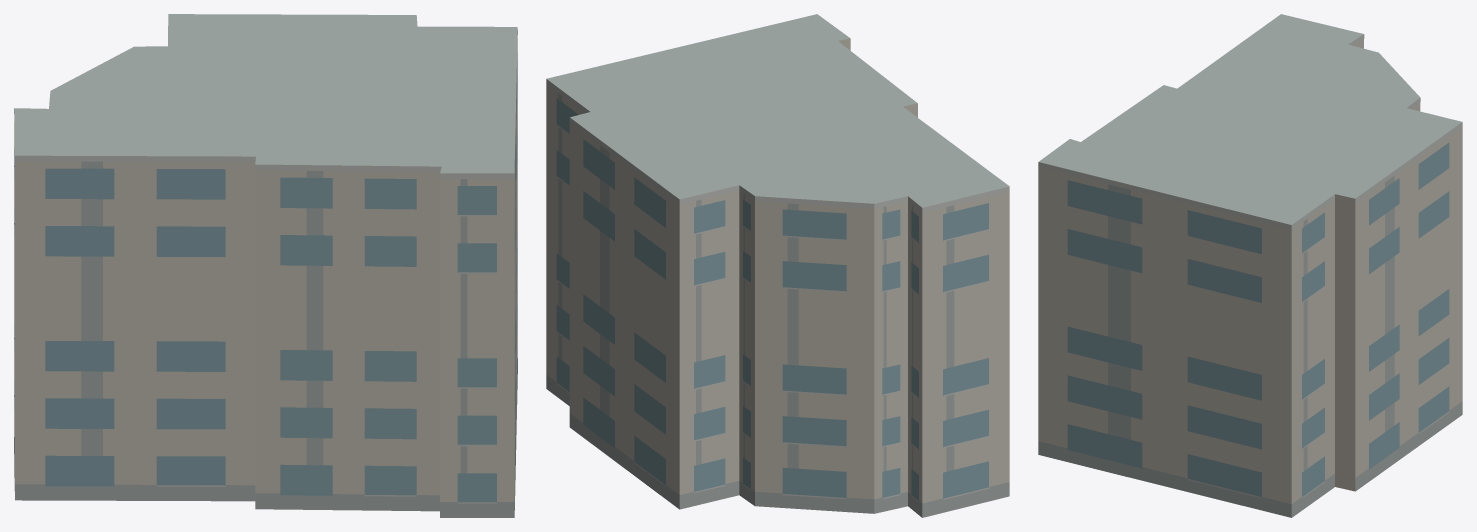
Rendered from survey-upis-32717592.glb.
3 views of the same model, side by side, from view 1: azimuth 30°, elevation 25°; view 2: azimuth 150°, elevation 25°; view 3: azimuth 270°, elevation 25° (orthographic). The views are drawn at different scales.
Parts seen in each view (by area): view 1: survey-upis-32717592.tmp; view 2: survey-upis-32717592.tmp; view 3: survey-upis-32717592.tmp.
Part boxes in pixels (x1,y1,x2,y2): survey-upis-32717592.tmp: (14, 14, 517, 517); survey-upis-32717592.tmp: (546, 14, 1009, 517); survey-upis-32717592.tmp: (1038, 14, 1462, 517).
Bounding box in the file's own units: 22.57 × 14.6 × 19.17.
